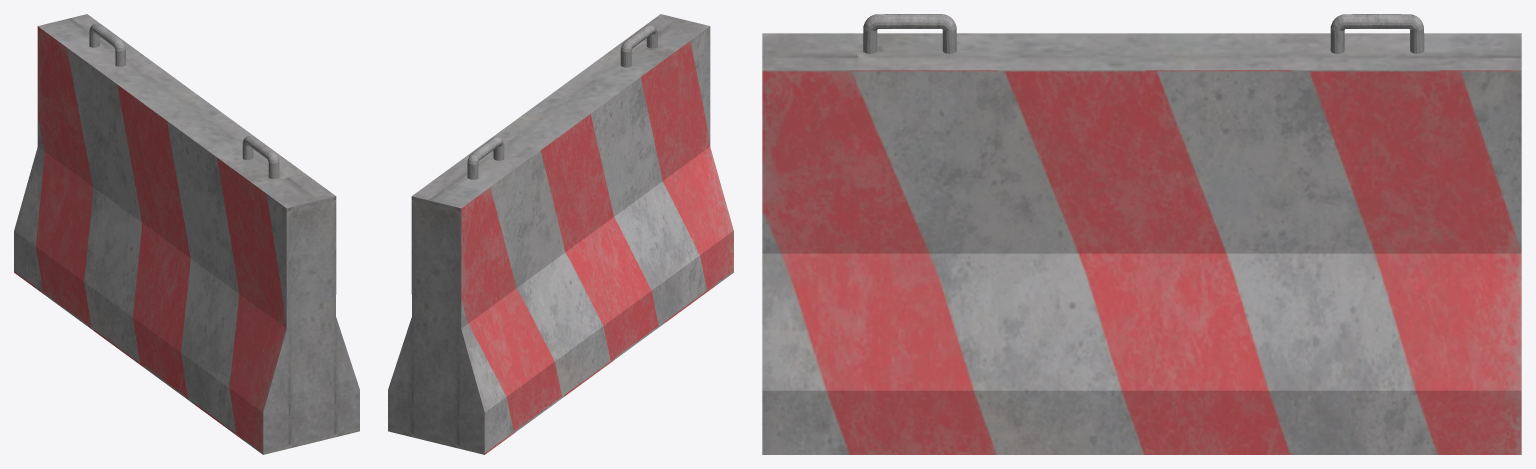
File: Concrete_Road_Barrier.glb
3 renders of one model, left to right at view 1: azimuth 30°, elevation 25°; view 2: azimuth 150°, elevation 25°; view 3: azimuth 270°, elevation 25°, orthographic. The views are drawn at different scales.
Parts seen in each view (by area): view 1: Cube.001; view 2: Cube.001; view 3: Cube.001.
Boxes of the visible parts, left/top/right/bottom form: Cube.001: left=14, top=14, right=359, bottom=454; Cube.001: left=388, top=14, right=733, bottom=454; Cube.001: left=762, top=14, right=1521, bottom=454.
Size of the model in its own units: 0.8535 by 2.23 by 3.81.
3 materials, 3 textured.
